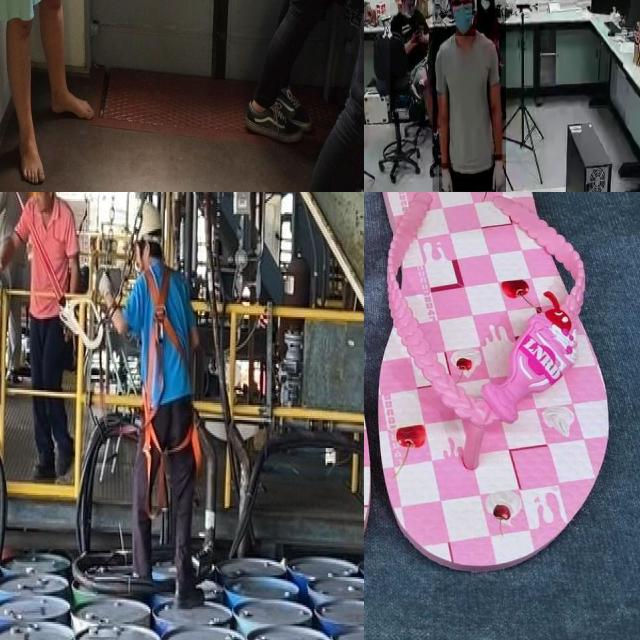Barefoots: (18, 128, 45, 184), (50, 91, 94, 120)
Harness: (142, 262, 202, 500)
Sandals: (364, 192, 633, 603)
face_mask: (452, 2, 476, 36), (480, 0, 490, 12)
face_nomask: (403, 0, 415, 15)
hand_glove: (491, 154, 506, 192), (438, 163, 453, 192)
hand_noglove: (409, 27, 422, 44), (419, 26, 425, 42)
person: (432, 0, 506, 192), (390, 0, 442, 127), (478, 0, 502, 61)
